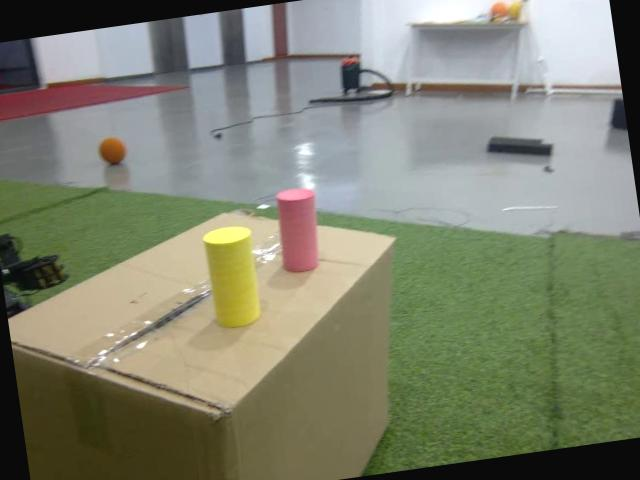orange_ball: (96, 134, 130, 170)
red_cylinder: (271, 186, 325, 274)
yellow_cylinder: (200, 222, 270, 334)
